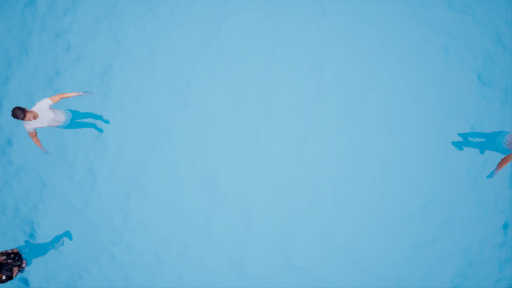person: (9, 85, 109, 140), (1, 221, 85, 284), (443, 111, 512, 174)
